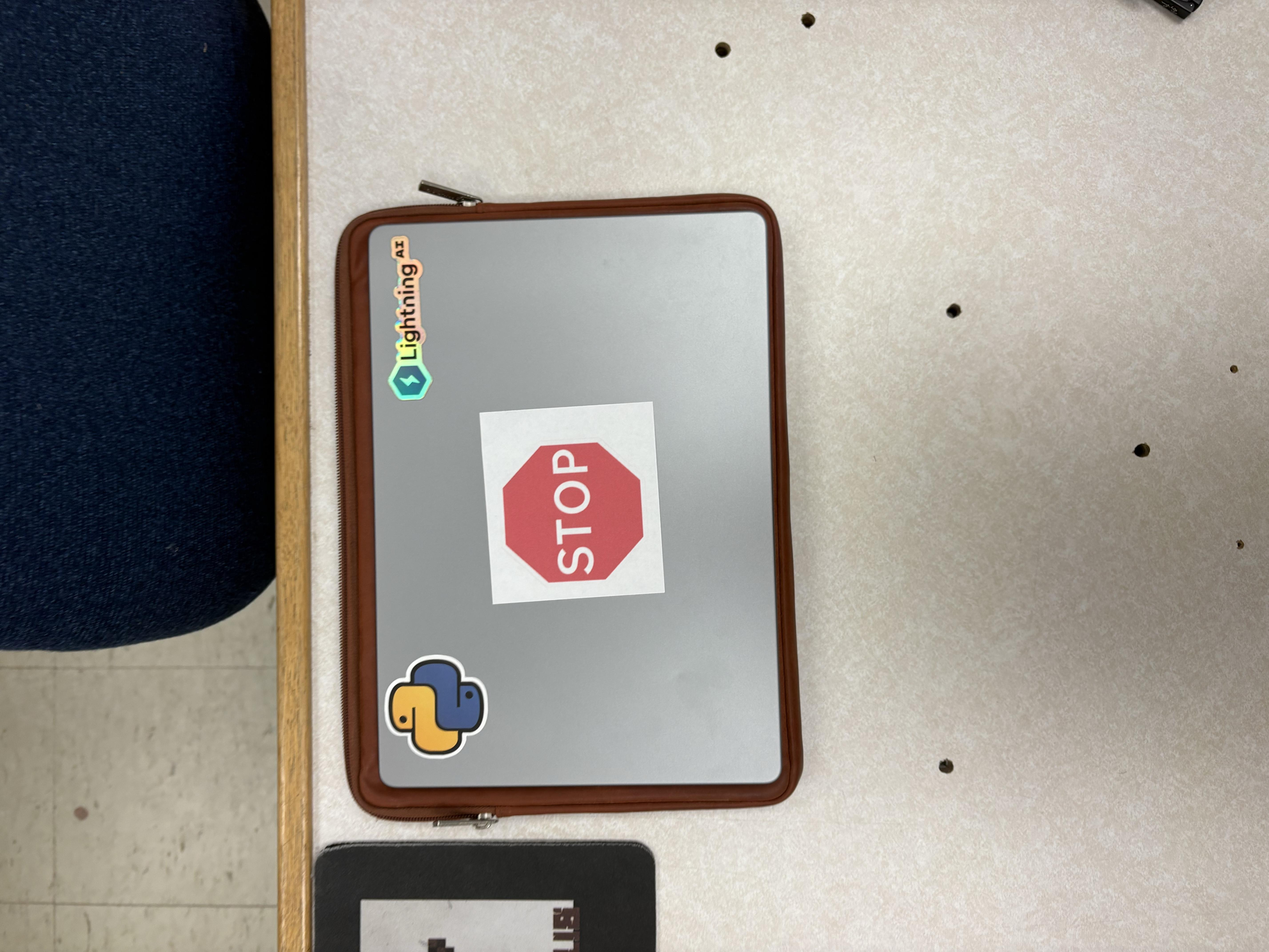Stop: (484, 401, 666, 610)
